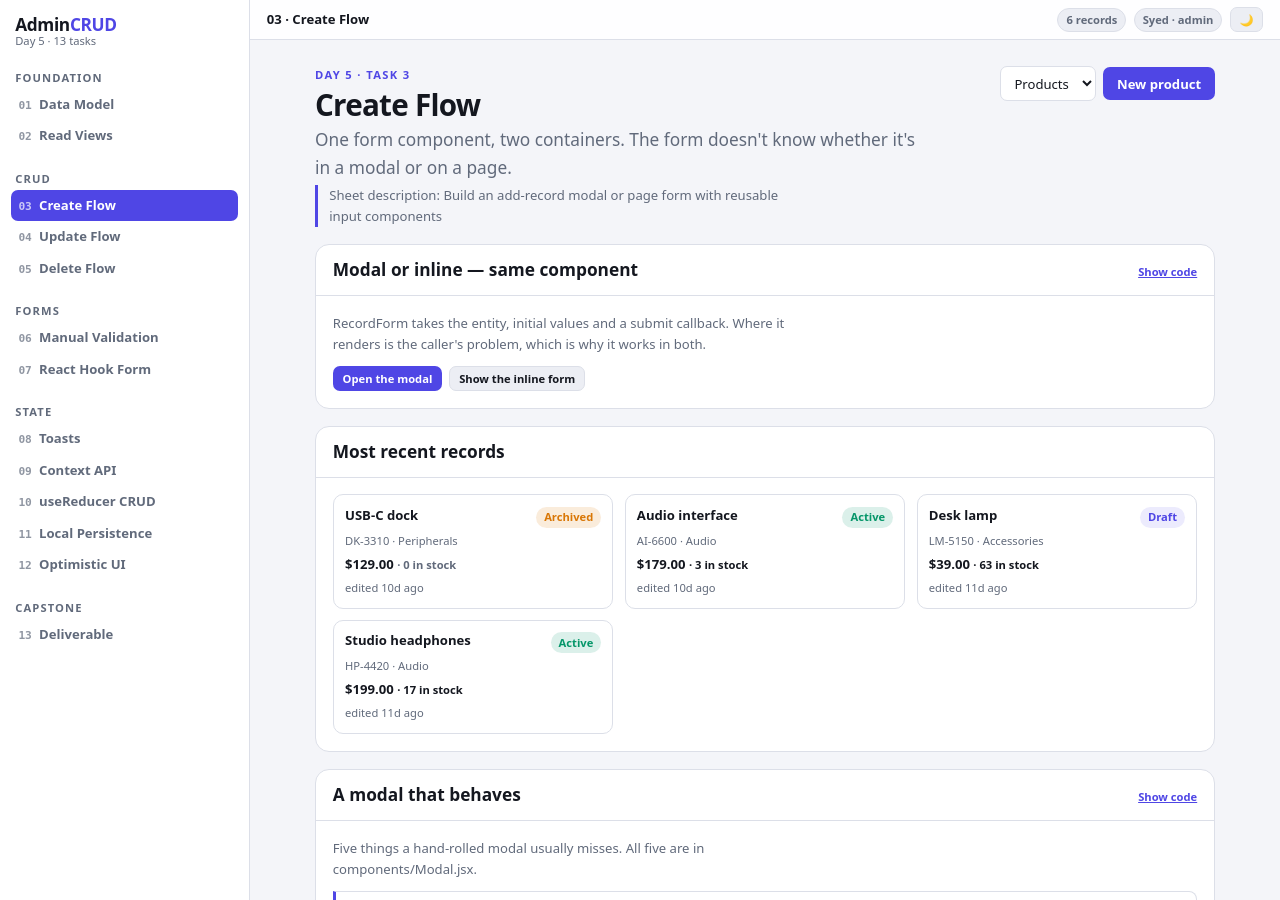
Scenario: task 3 — create flow › closes on Escape
Check: the text "Day 5 · Task 3" is shown, box 315,67 -> 410,82
Step 1. Click the button "Open the modal" → (387, 378), box 333,366 -> 442,391
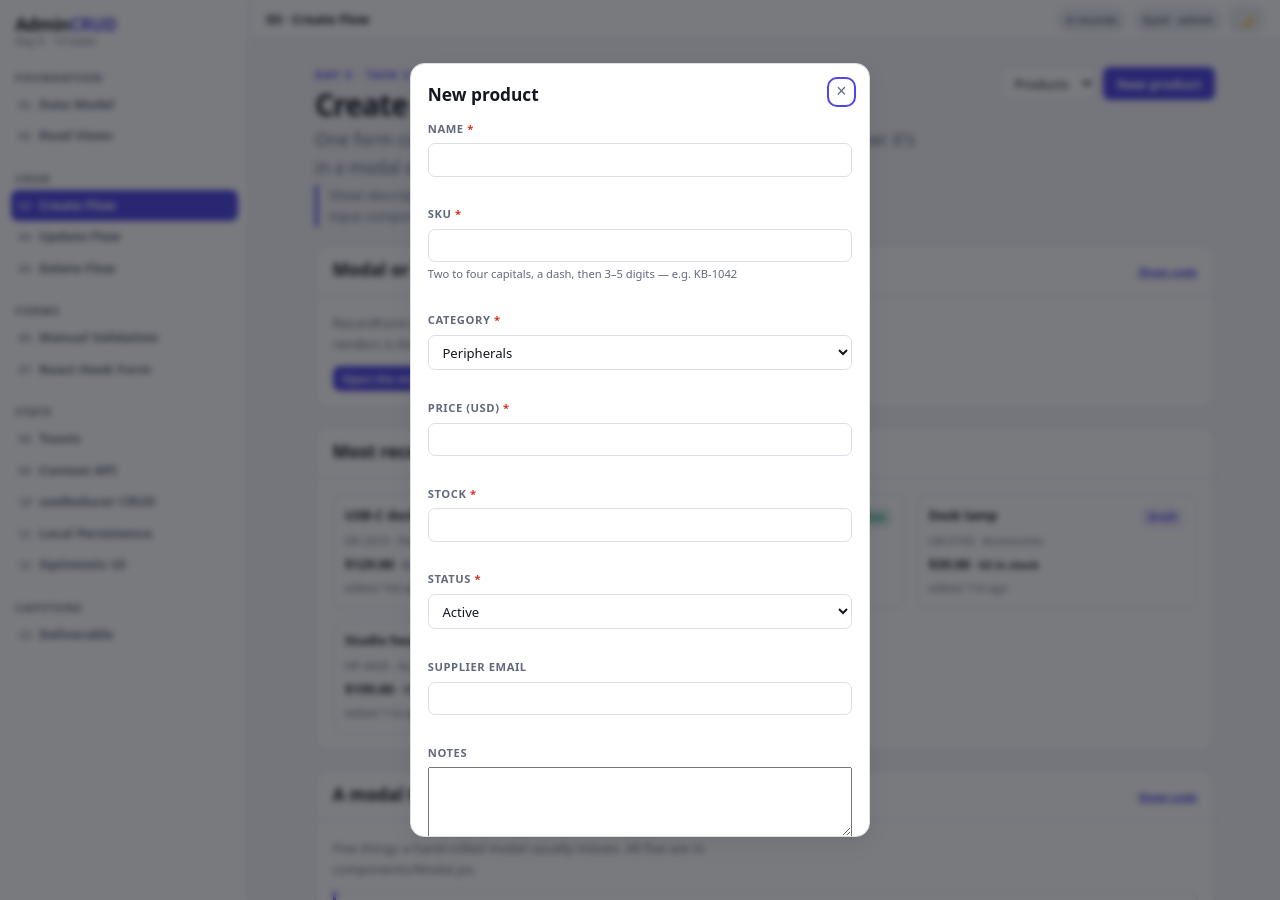
Check: the dialog is shown, box 410,63 -> 870,837
Step 2. Press Escape
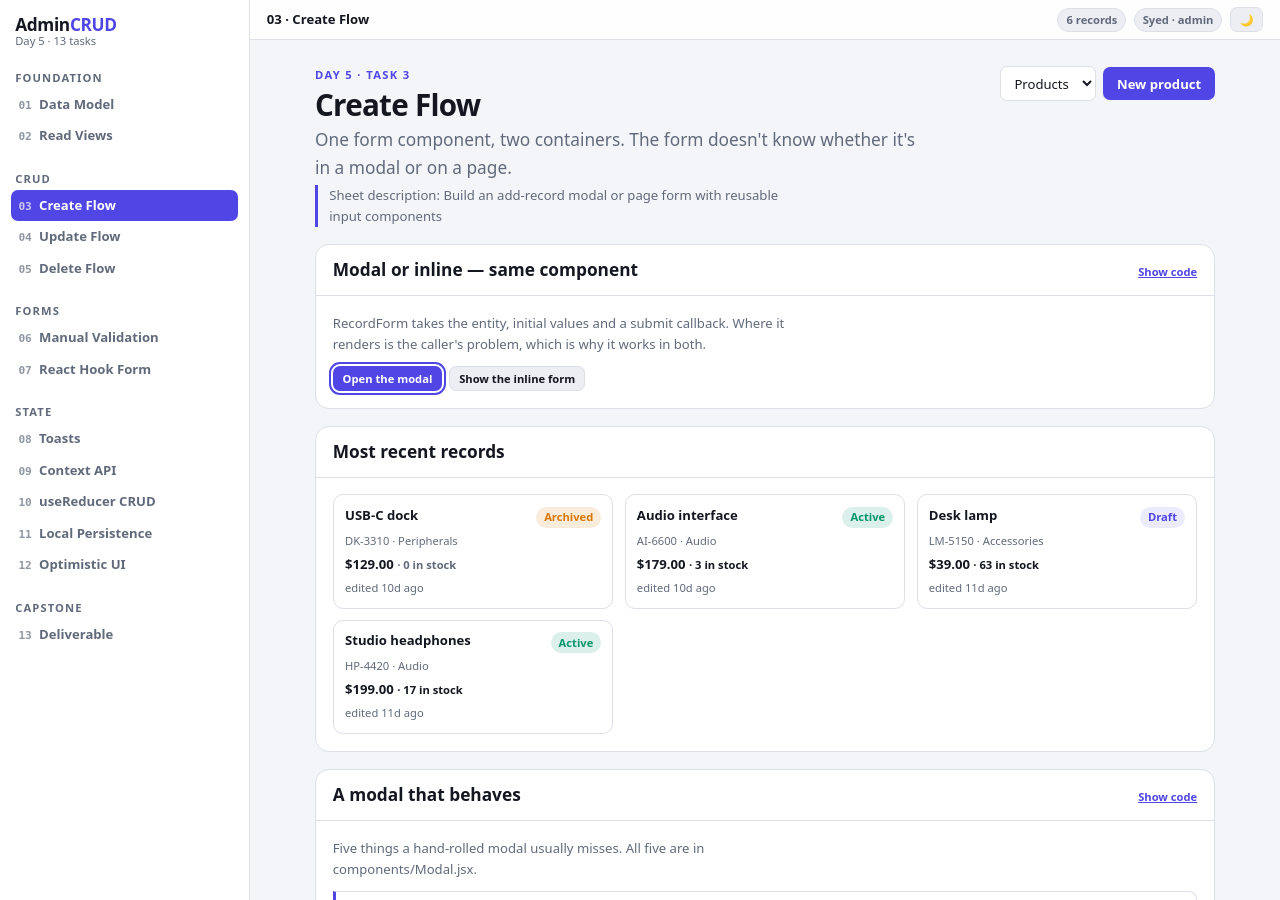
Check: the dialog is gone
